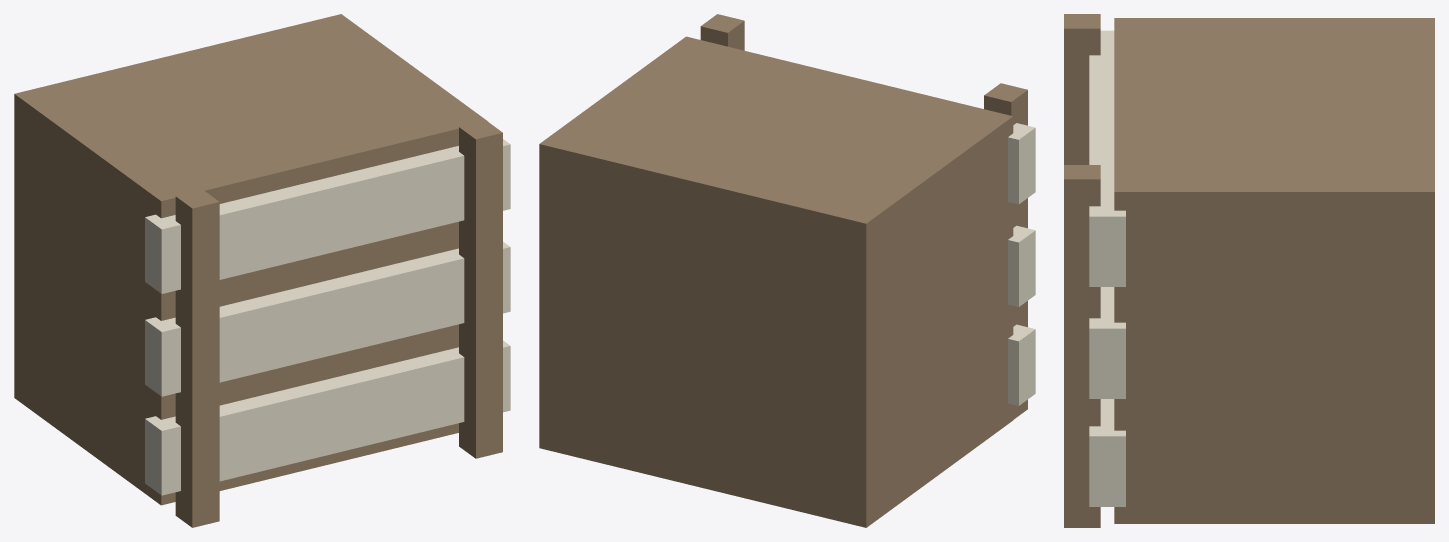
3 renders of one model, left to right at view 1: azimuth 30°, elevation 25°; view 2: azimuth 150°, elevation 25°; view 3: azimuth 270°, elevation 25°, orthographic. The views are drawn at different scales.
Size of the model in its own units: 0.96 by 0.84 by 0.81.
